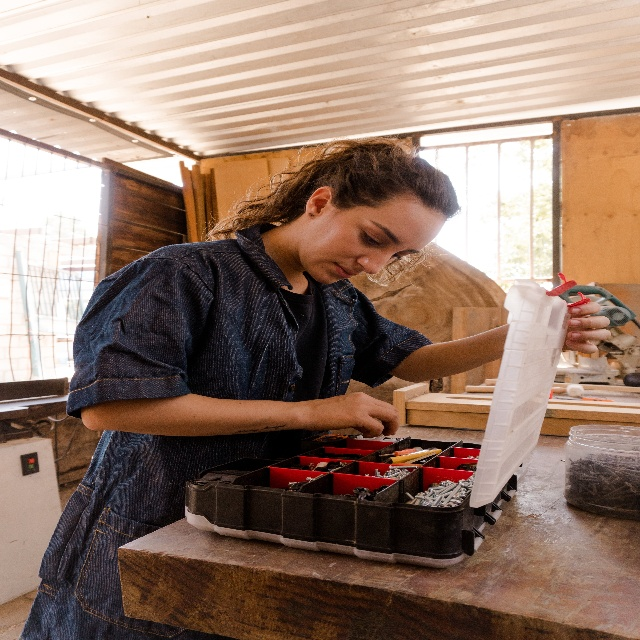Sin_guantes: (305, 387, 400, 441), (560, 296, 612, 355)
